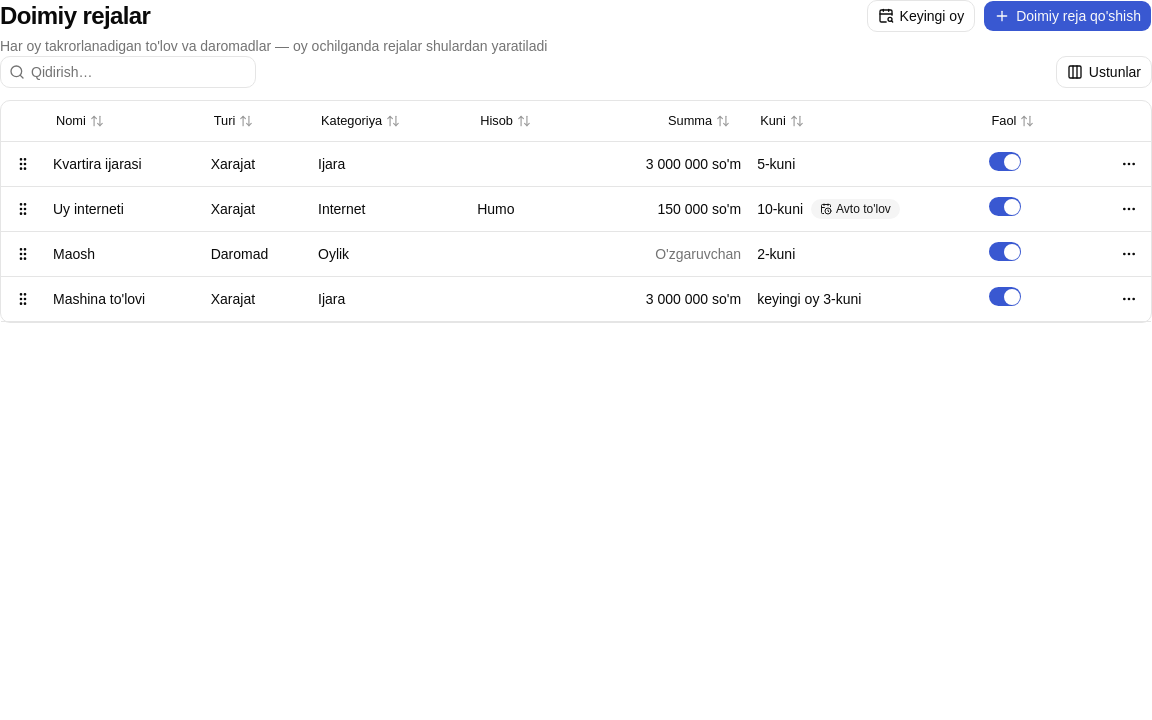
Test: RecurringRulesPage (E22-T04) › avto to'lov hisobsiz — forma xatosi (BR-075), so'rov yo'q
Click the button "Kvartira ijarasi".
click(97, 164)  # box [53, 154, 142, 174]
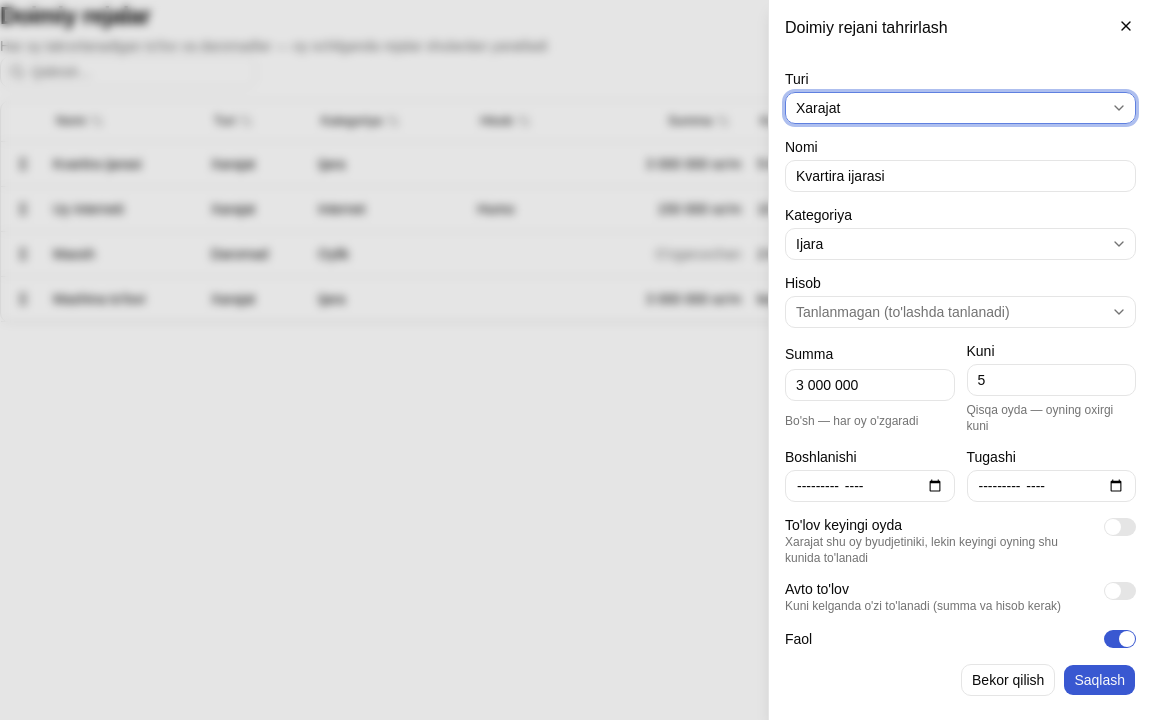
Click the 2nd switch named "Avto to'lov".
click(1120, 591)  # box [1104, 582, 1136, 600]
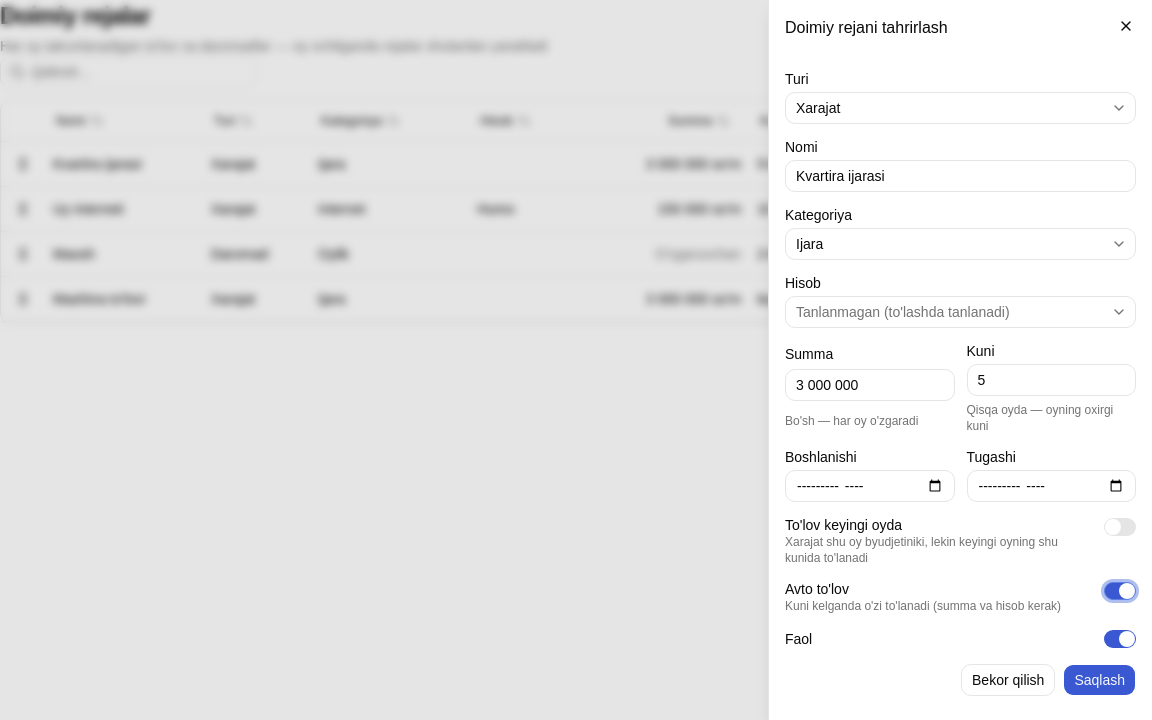
Click the button "Saqlash".
click(1100, 680)  # box [1063, 664, 1136, 696]
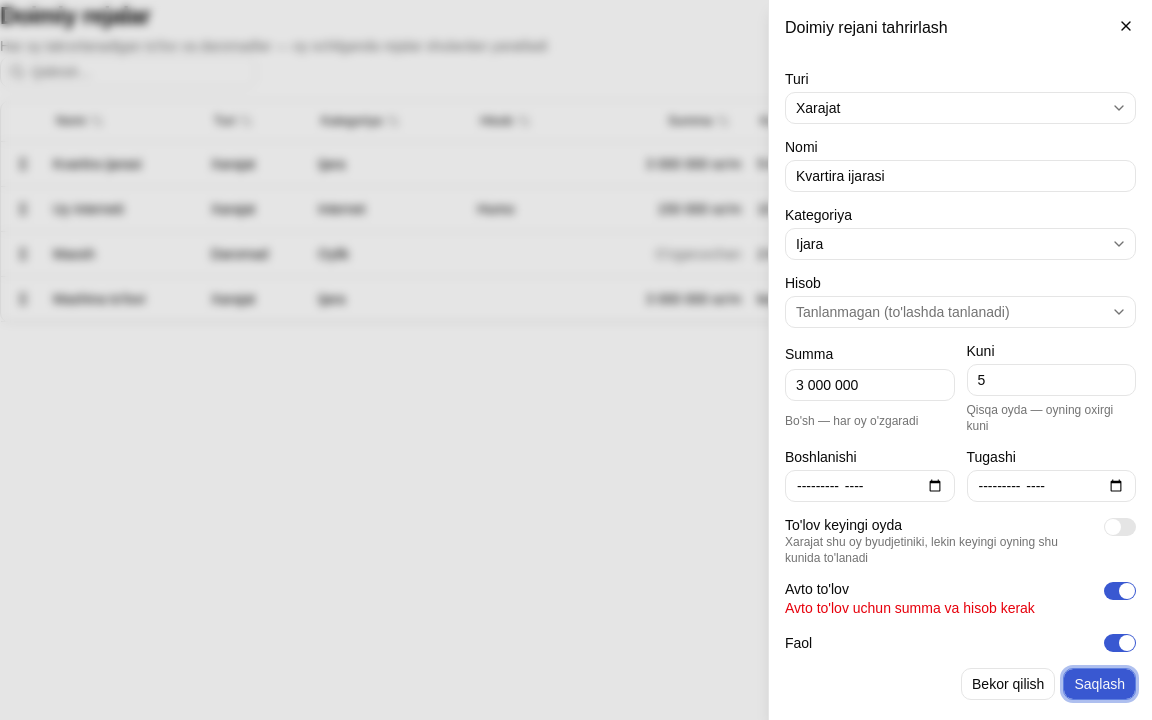
Result: the text "Avto to'lov uchun summa va hisob kerak" is shown at [785, 598, 1035, 618]
